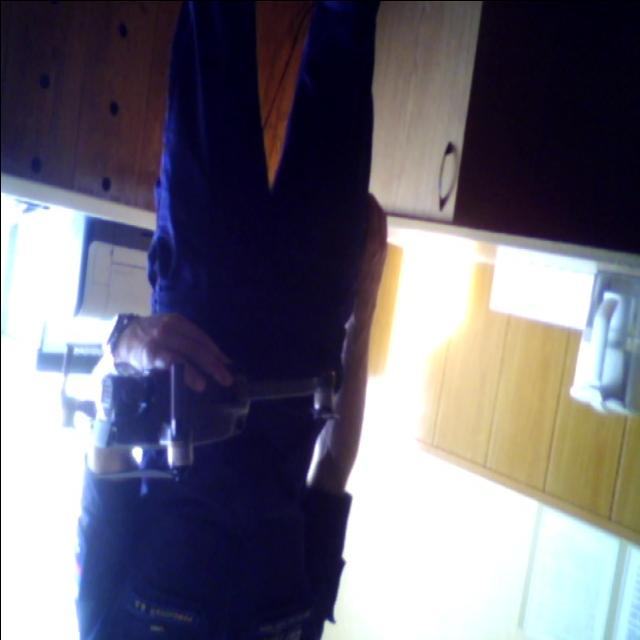drone: (44, 326, 362, 476)
